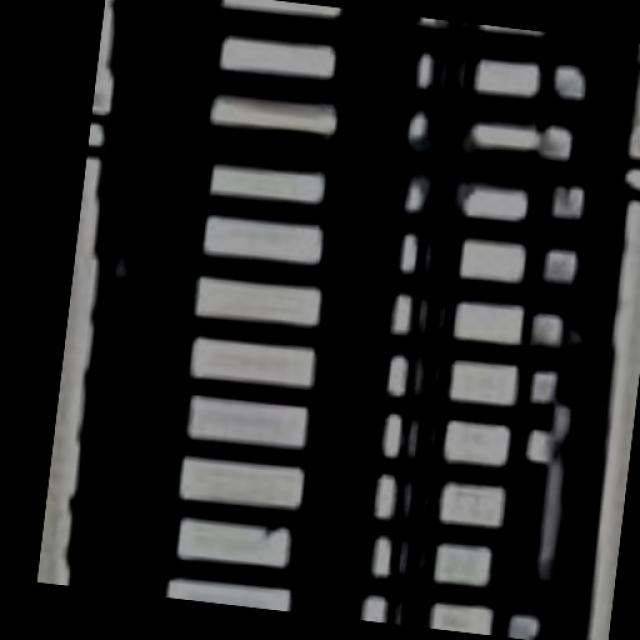igps: (79, 312, 623, 420), (52, 538, 601, 640), (71, 382, 615, 482), (86, 258, 631, 355), (59, 507, 606, 592), (62, 452, 614, 534), (84, 216, 635, 296), (98, 32, 640, 108), (93, 102, 639, 169), (92, 165, 639, 230), (100, 0, 638, 43)
